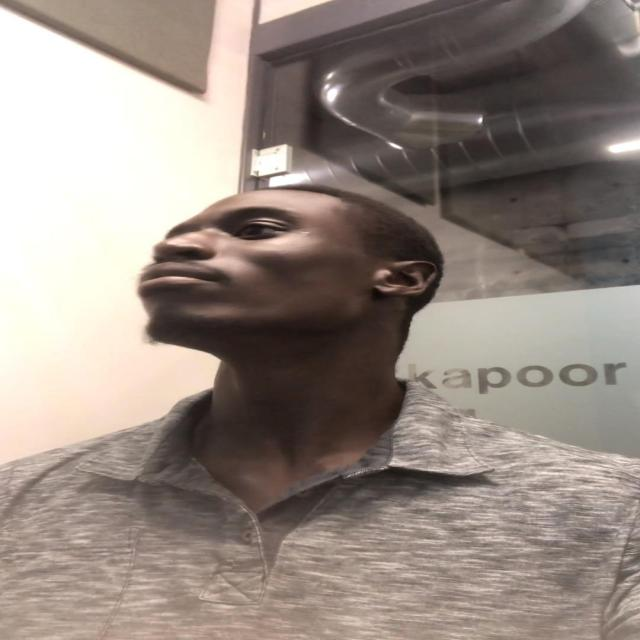face: (131, 195, 407, 348)
